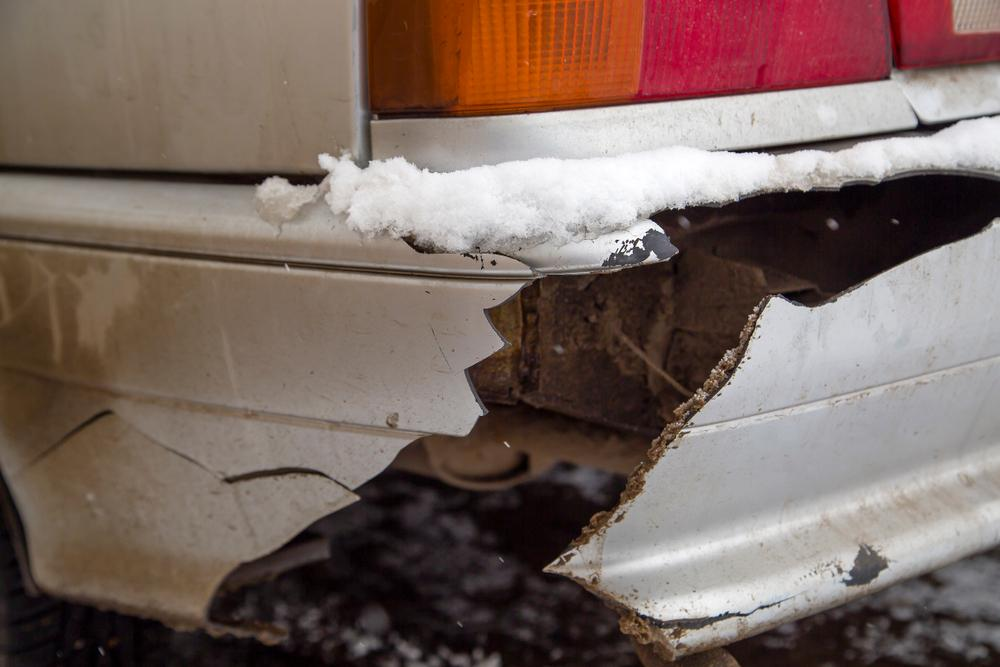crack: (11, 169, 1000, 633), (635, 592, 802, 629)
